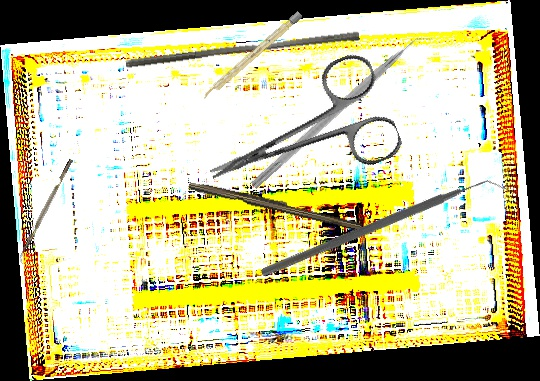Chopper: (259, 98, 509, 364), (250, 27, 437, 199), (15, 158, 78, 265)
Iris Scissors: (189, 48, 406, 223)
Pusher: (125, 22, 360, 78)
Scalpel Handle: (187, 178, 364, 232), (201, 10, 303, 102)
